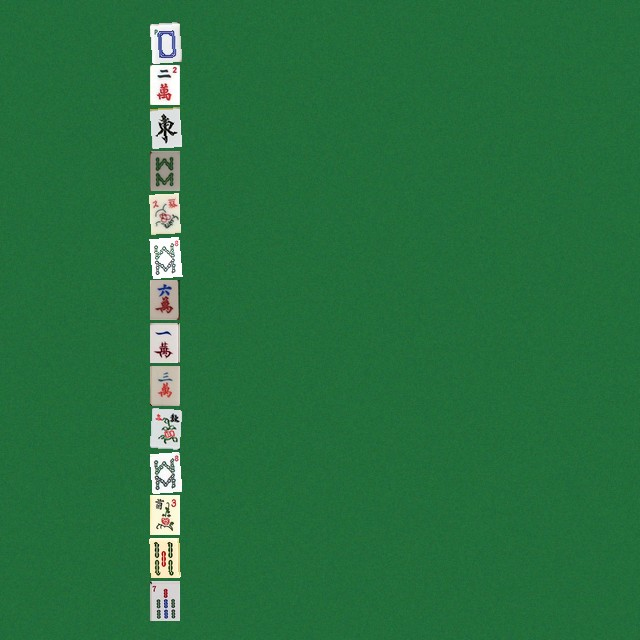tile: (149, 21, 179, 61), (149, 64, 179, 104), (149, 107, 179, 147), (149, 150, 179, 190), (149, 193, 179, 233), (149, 236, 179, 276), (149, 279, 179, 319), (149, 322, 179, 362), (149, 365, 179, 405), (149, 408, 179, 448), (149, 451, 179, 491), (149, 494, 179, 534), (149, 537, 179, 577), (149, 580, 179, 620)
